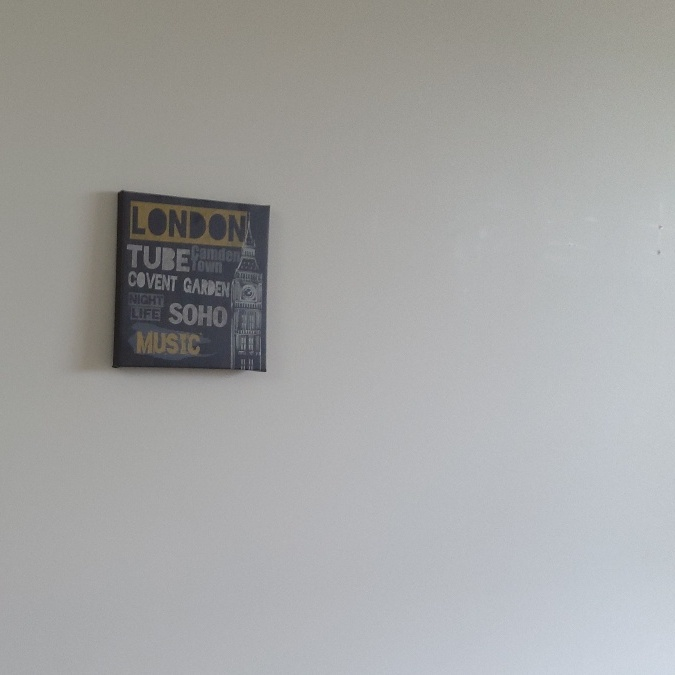poster: (112, 181, 280, 380)
